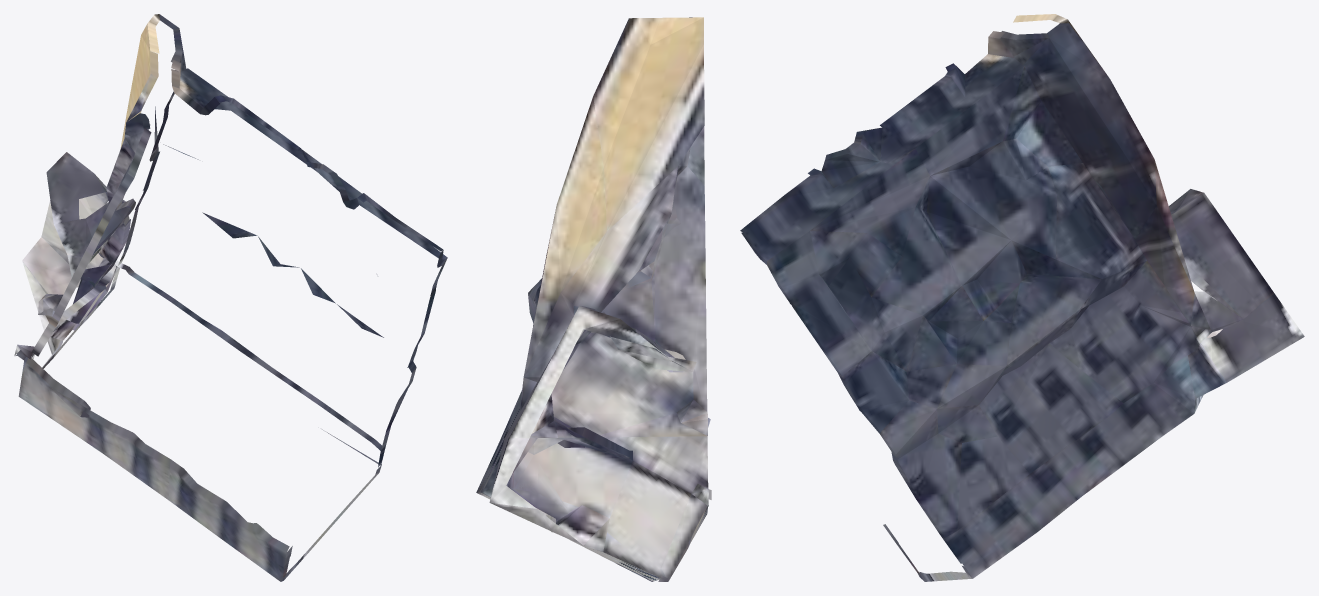
The picture shows the model from 3 angles, left to right: view 1: azimuth 30°, elevation 25°; view 2: azimuth 150°, elevation 25°; view 3: azimuth 270°, elevation 25°; orthographic projection. The views are drawn at different scales.
Size of the model in its own units: 17.74 by 32.3 by 30.96.
1 material, 1 textured.
